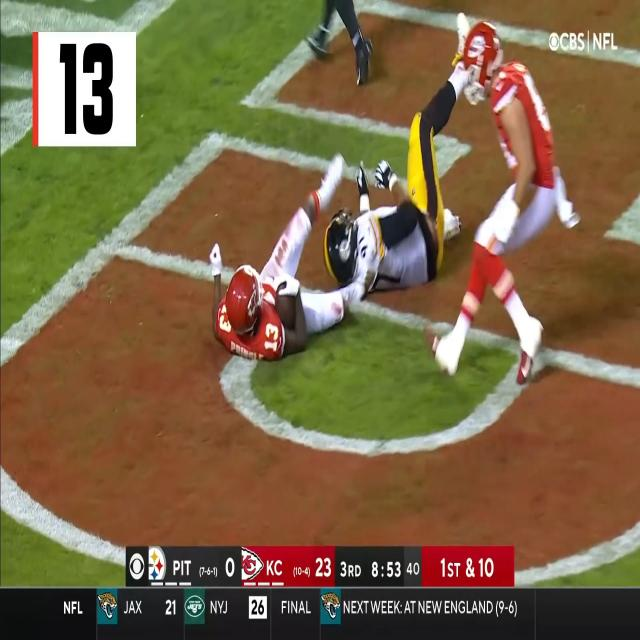football: (275, 281, 298, 332)
players: (430, 20, 580, 385), (325, 11, 473, 289), (210, 153, 360, 364)
